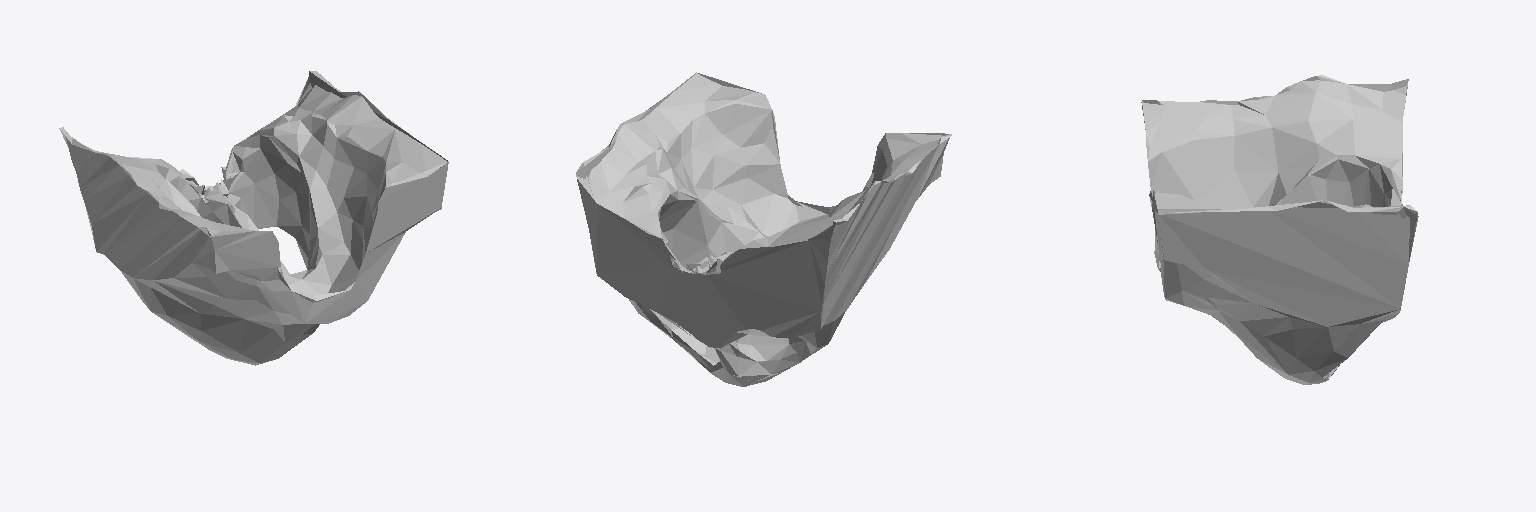
File: body_NoseGhost.OBJ
The picture shows the model from 3 angles: view 1: azimuth 30°, elevation 25°; view 2: azimuth 150°, elevation 25°; view 3: azimuth 270°, elevation 25°; orthographic projection.
Parts seen in each view (by area): view 1: body_Nose; view 2: body_Nose; view 3: body_Nose.
Boxes of the visible parts, box(x1,y1,x2,y2) form: body_Nose: box(59, 71, 448, 365); body_Nose: box(576, 72, 951, 386); body_Nose: box(1141, 75, 1418, 384).
Bounding box in the file's own units: 50.73 × 43.58 × 45.98.